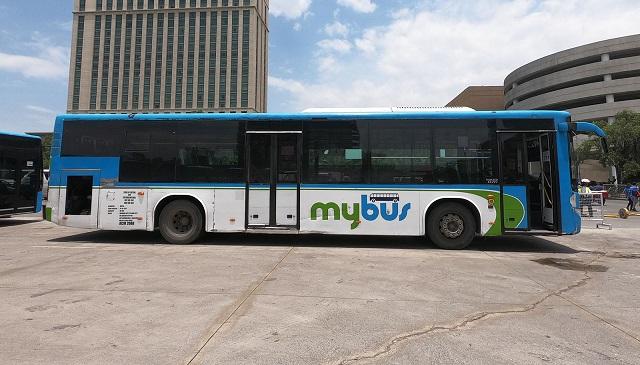bus: (43, 112, 578, 240), (3, 133, 41, 211)
